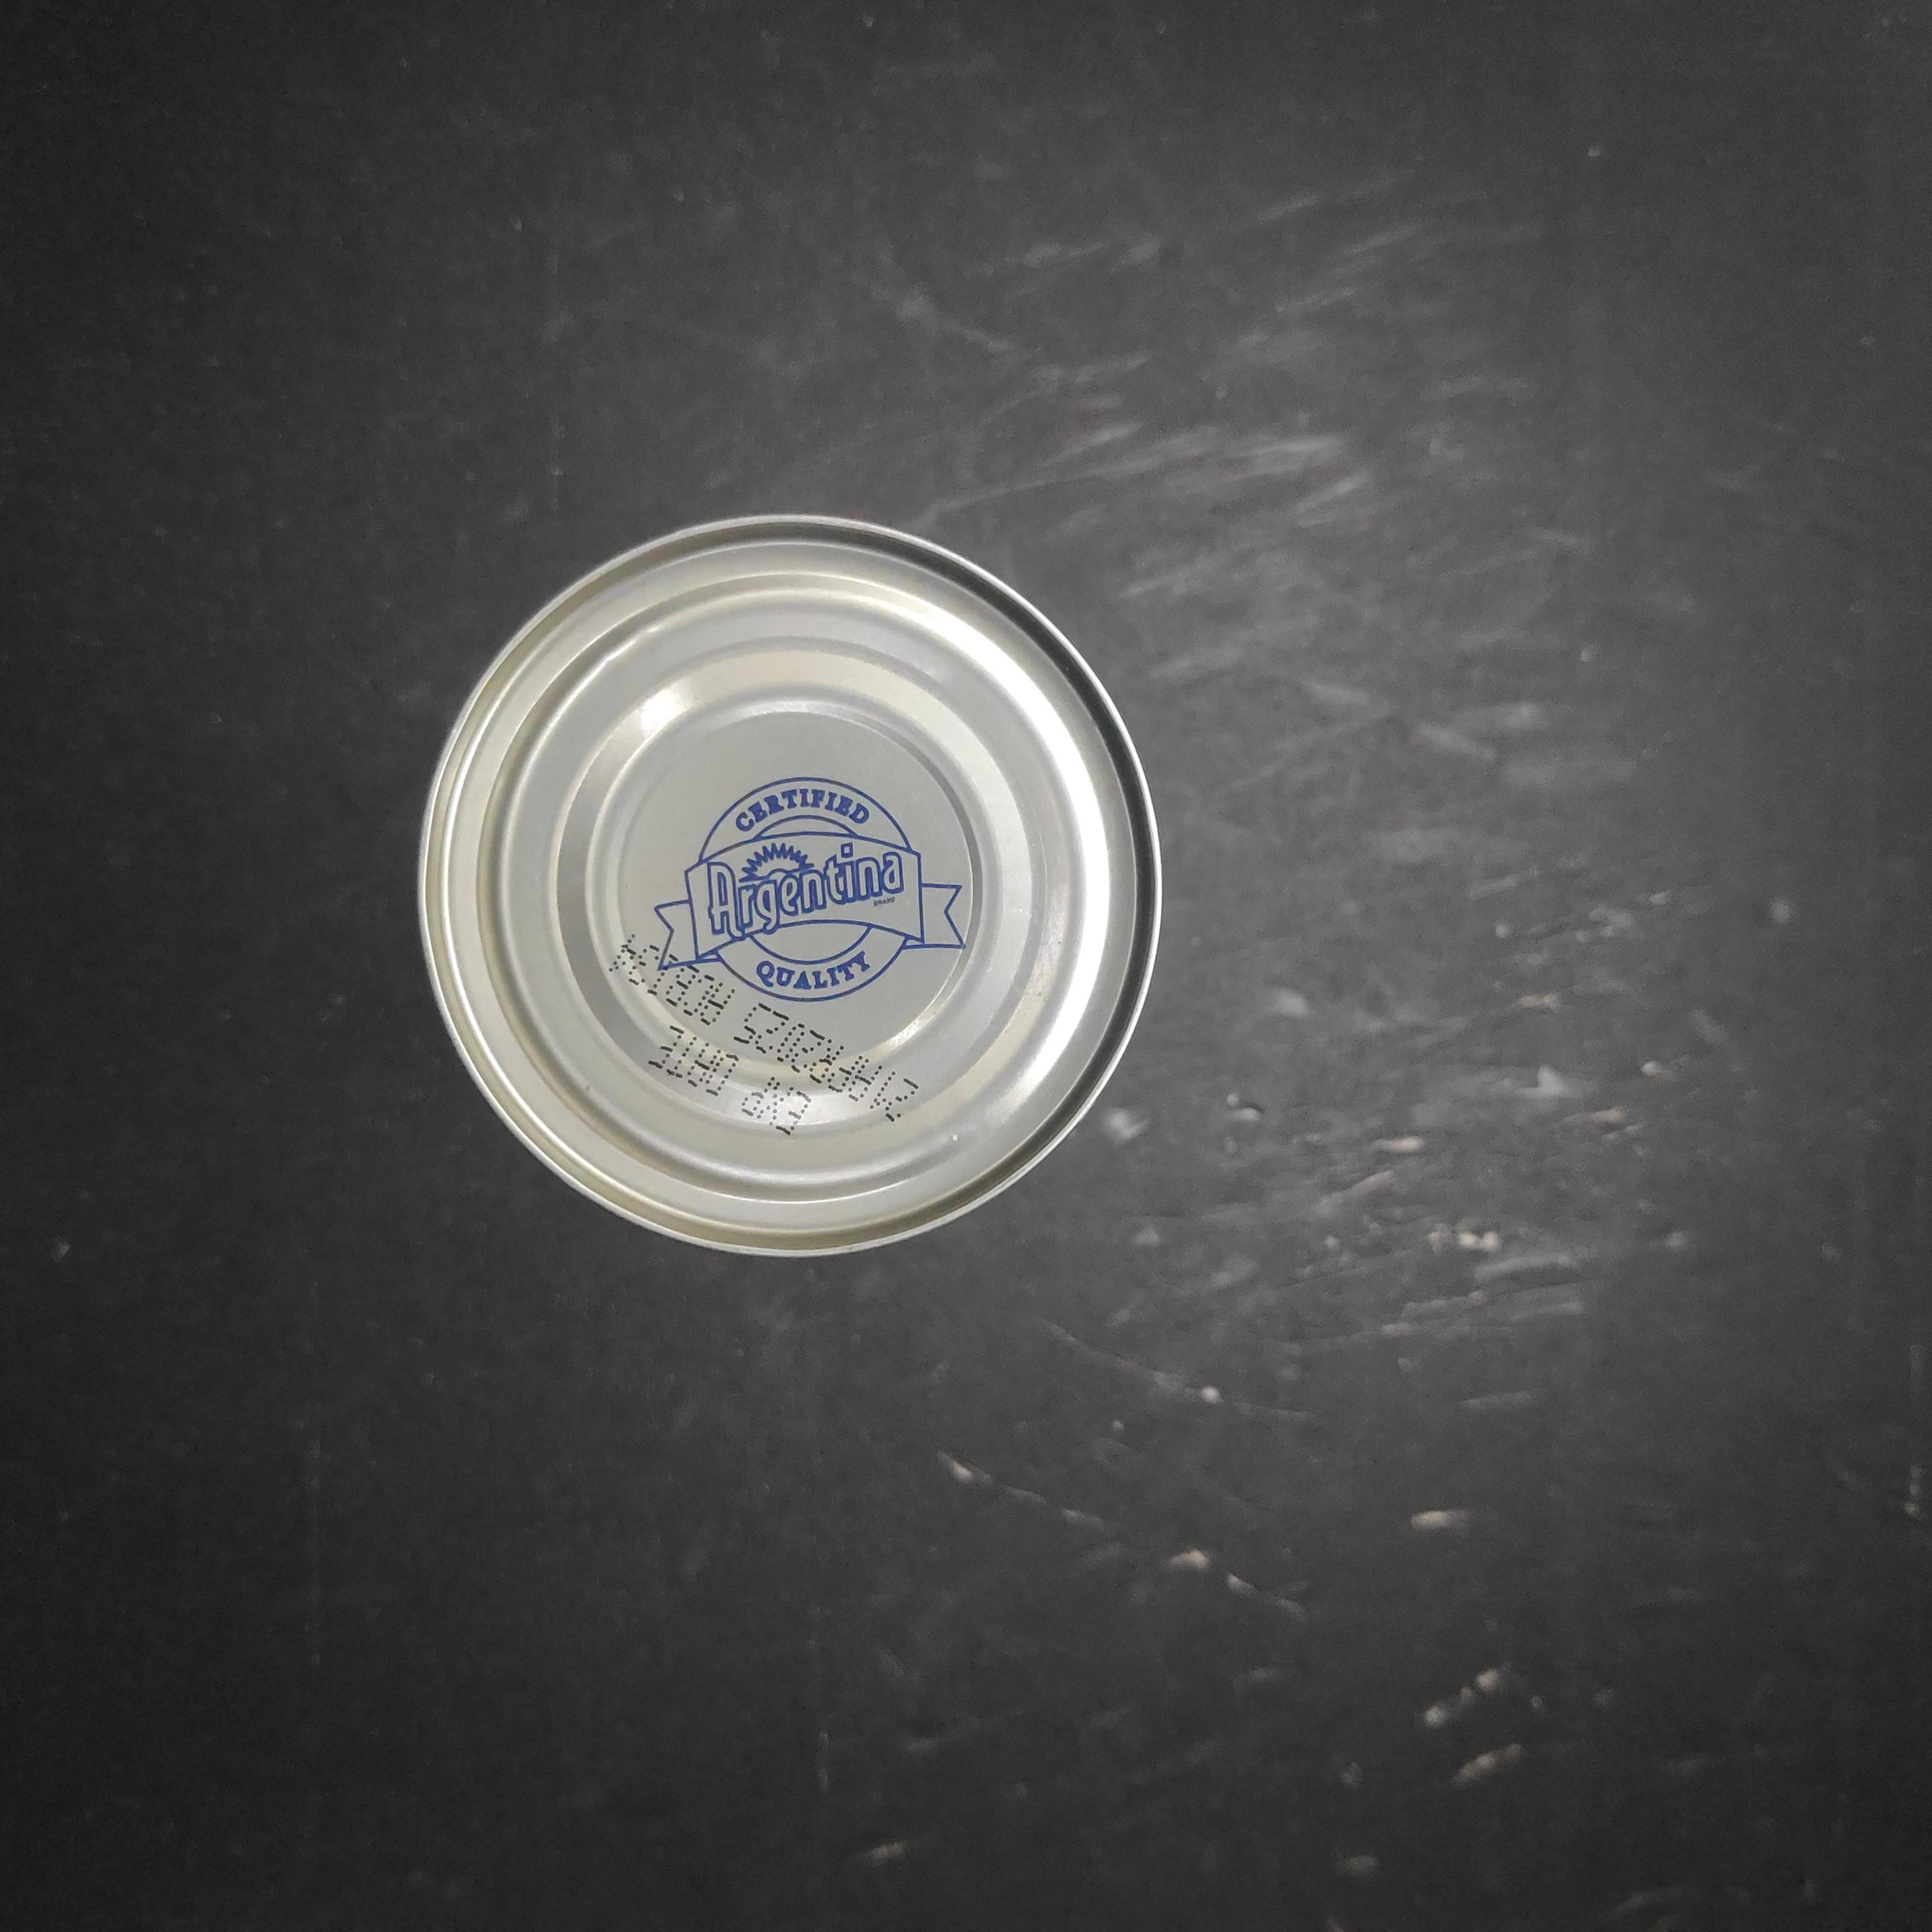No defect: (669, 393, 1431, 1175)
